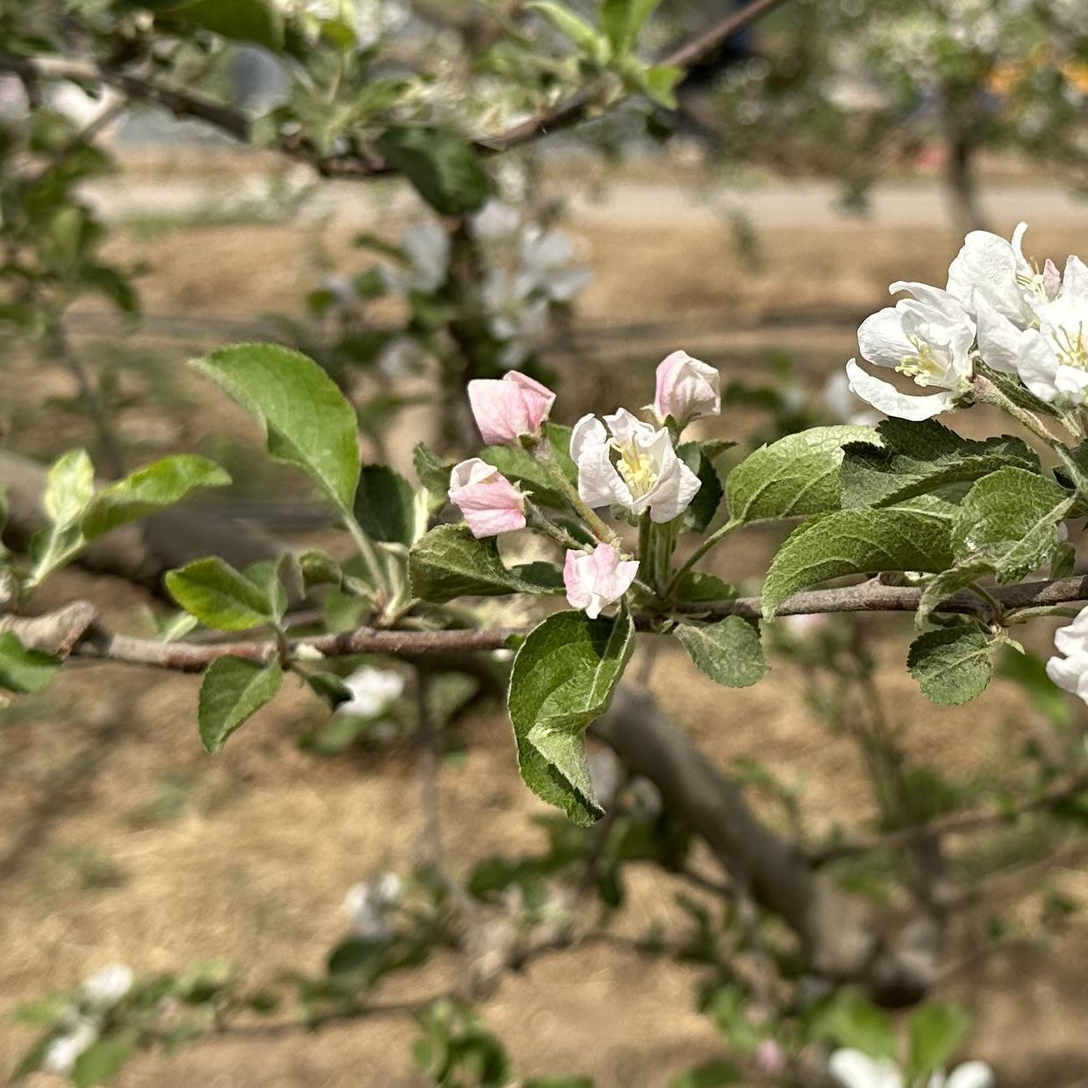apple_flower: (417, 315, 749, 652), (848, 225, 1088, 418), (1048, 605, 1088, 706)
